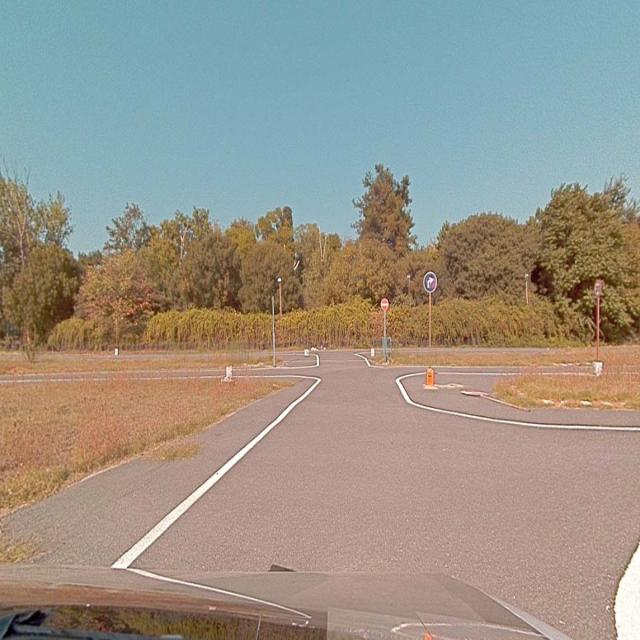girisyok: (381, 299, 388, 310)
sag: (423, 271, 437, 293)
